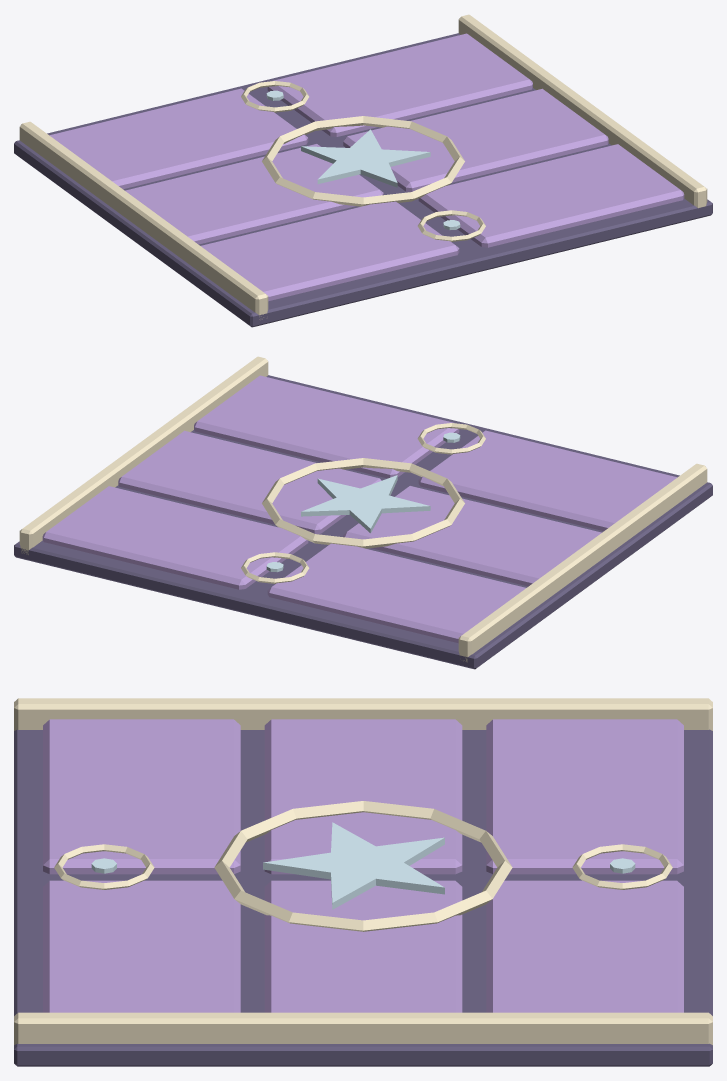
The model's file is Oracle_RoadTile.fbx.
3 views of the same model, one above another, from view 1: azimuth 30°, elevation 25°; view 2: azimuth 150°, elevation 25°; view 3: azimuth 270°, elevation 25° (orthographic). The views are drawn at different scales.
Parts seen in each view (by area): view 1: Oracle_RoadTile; view 2: Oracle_RoadTile; view 3: Oracle_RoadTile.
Part boxes in pixels (<box>): Oracle_RoadTile: <box>14,14,712,327</box>; Oracle_RoadTile: <box>14,356,712,669</box>; Oracle_RoadTile: <box>14,698,712,1066</box>.
Size of the model in its own units: 460 by 28.5 by 410.
